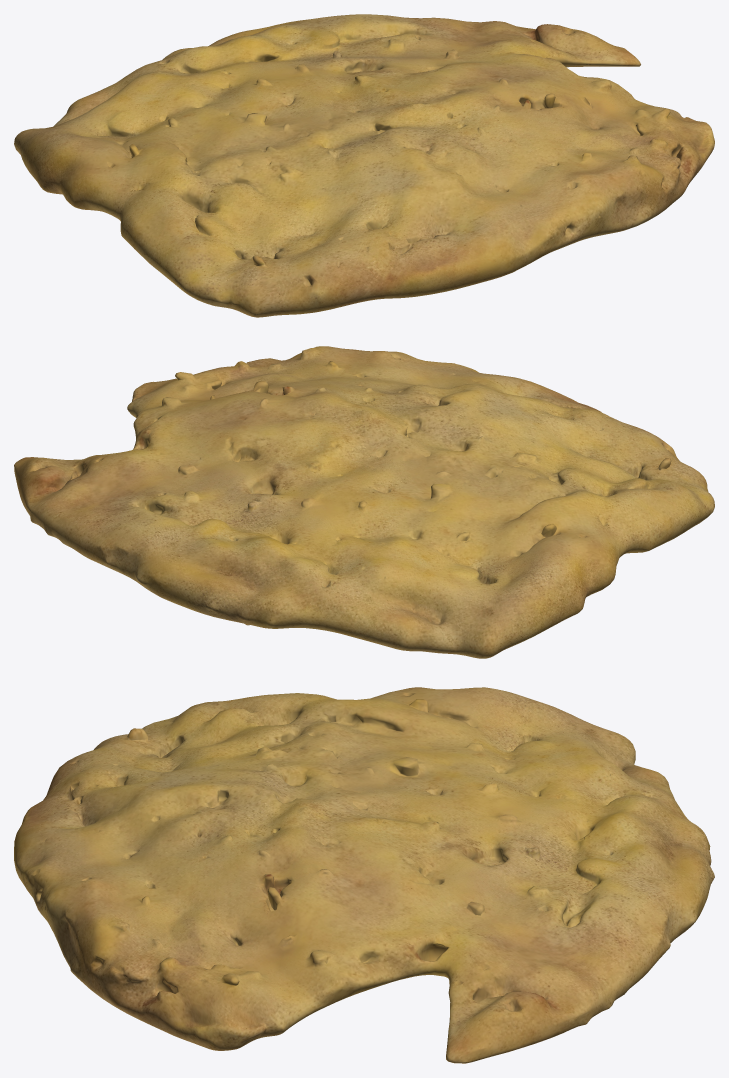
Rendered from Apanado.glb.
3 renders of one model, top to bottom at view 1: azimuth 30°, elevation 25°; view 2: azimuth 150°, elevation 25°; view 3: azimuth 270°, elevation 25°, orthographic. The views are drawn at different scales.
Visible parts, largest first — view 1: tripo_node_148bf275-388f-431d-a527-c1298ff24d07; view 2: tripo_node_148bf275-388f-431d-a527-c1298ff24d07; view 3: tripo_node_148bf275-388f-431d-a527-c1298ff24d07.
Boxes of the visible parts, left/top/right/bottom form: tripo_node_148bf275-388f-431d-a527-c1298ff24d07: left=14, top=14, right=714, bottom=317; tripo_node_148bf275-388f-431d-a527-c1298ff24d07: left=14, top=346, right=714, bottom=658; tripo_node_148bf275-388f-431d-a527-c1298ff24d07: left=14, top=687, right=714, bottom=1063.
Size of the model in its own units: 0.9796 by 0.1539 by 0.8673.
Materials: 1 (1 with a texture image).
